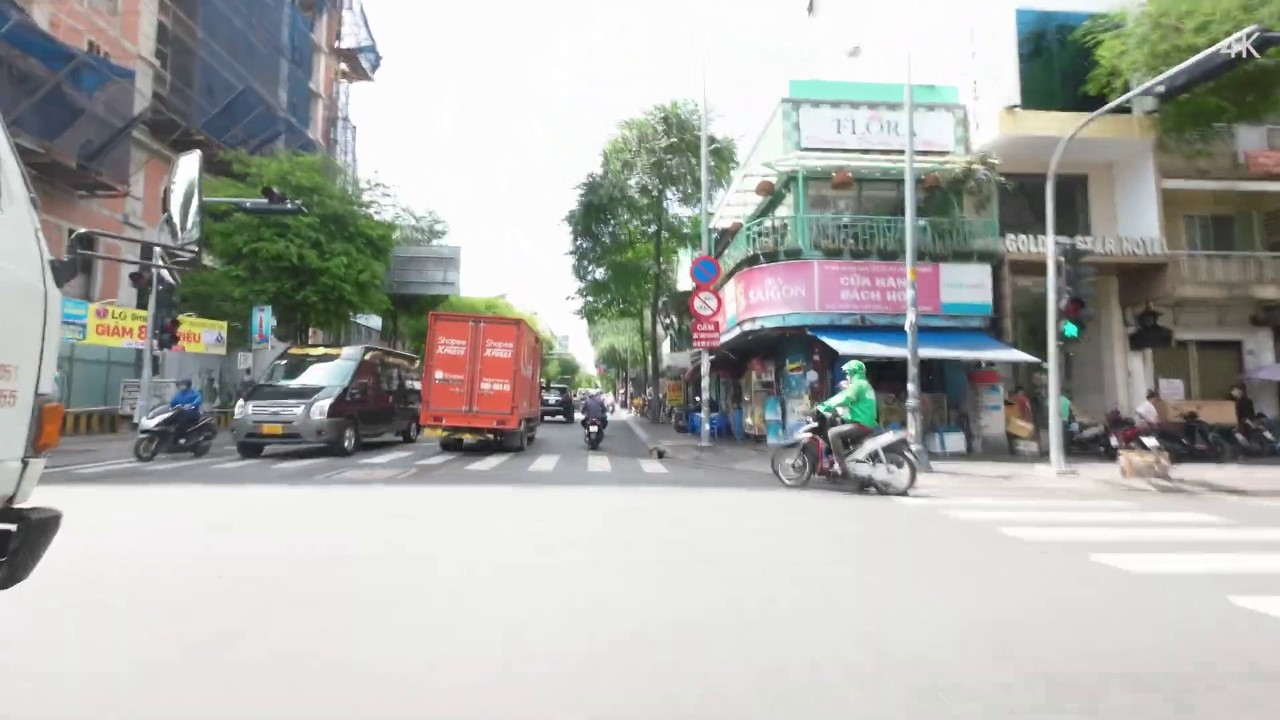cam_do_xe: (689, 255, 722, 287)
